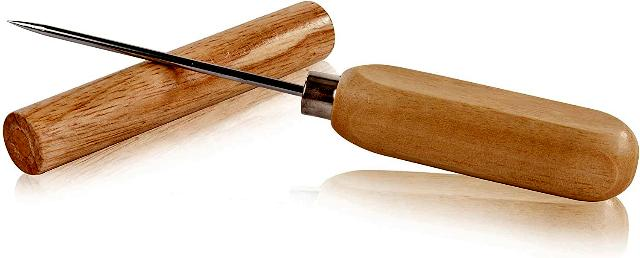ice pick: (7, 21, 637, 201)
